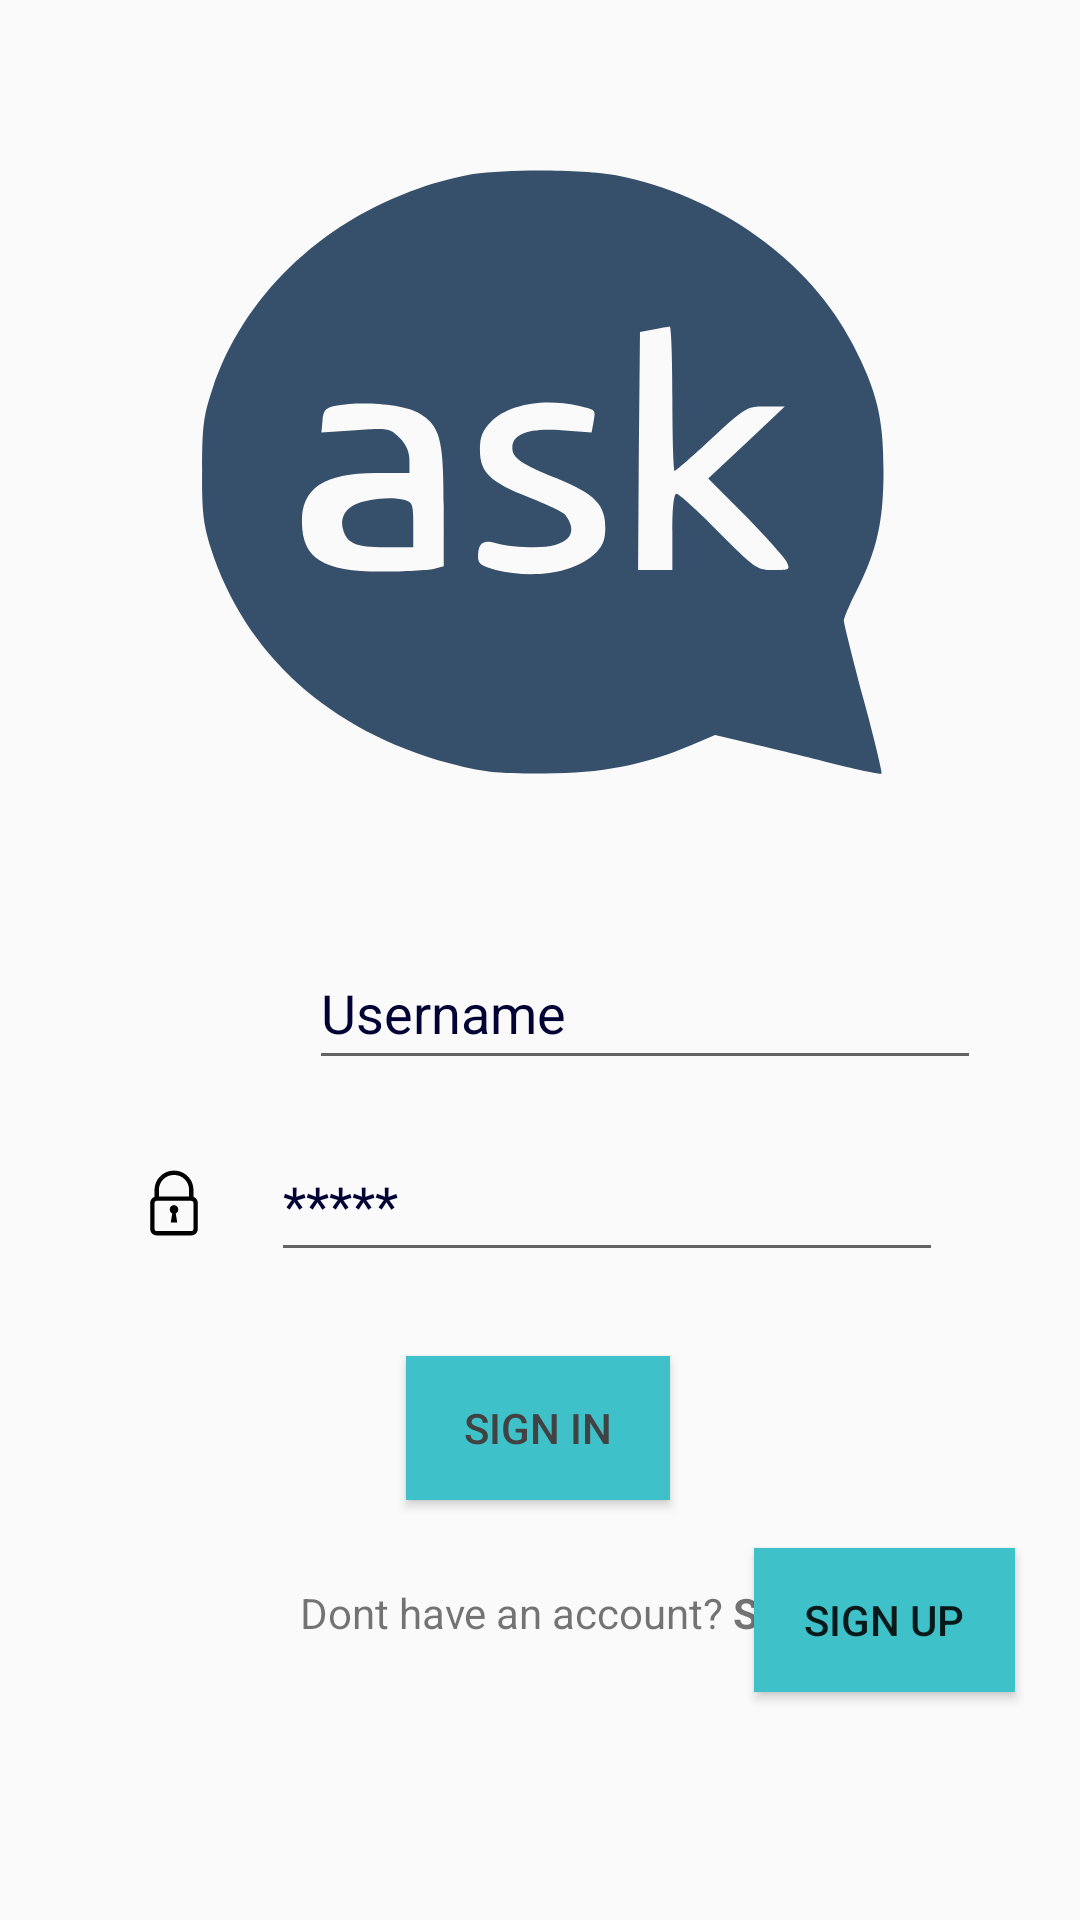

Icon bounding boxes for this 1080 × 1920 phone screenshot, format bbox=[x1, y1, x2, y2]:
ei lock: bbox=[150, 1170, 198, 1236]
